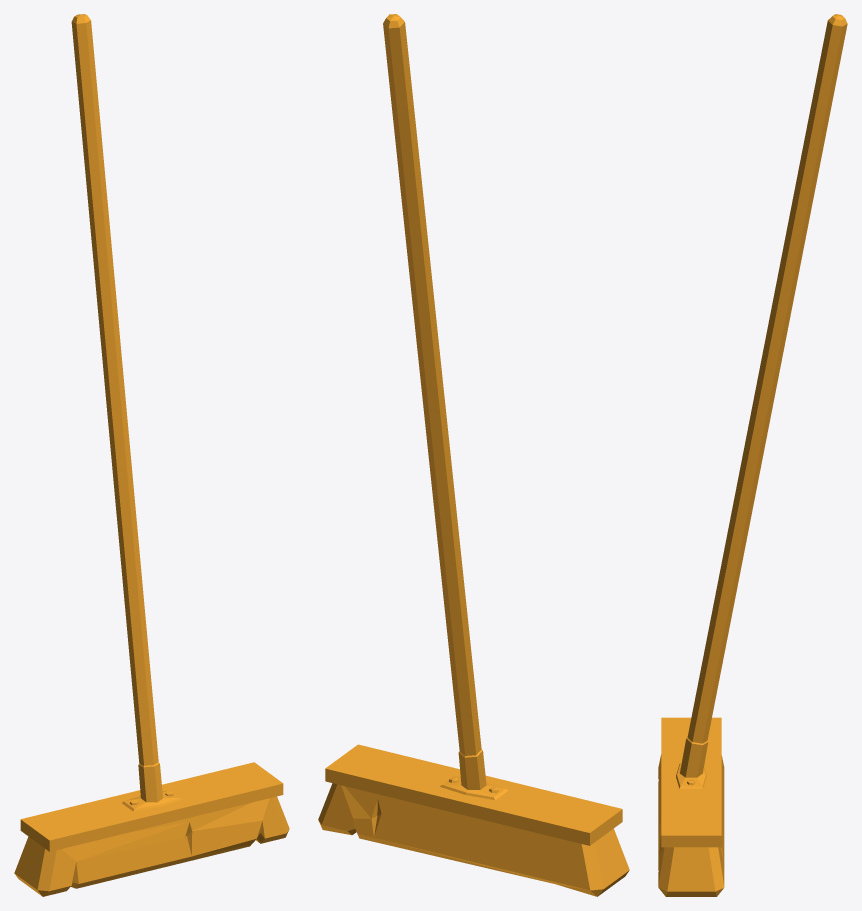
File: SM_Broom_Farm.fbx
3 renders of one model, left to right at view 1: azimuth 30°, elevation 25°; view 2: azimuth 150°, elevation 25°; view 3: azimuth 270°, elevation 25°, orthographic. The views are drawn at different scales.
Visible parts, largest first — view 1: broom-farm; view 2: broom-farm; view 3: broom-farm.
Part boxes in pixels (left/top/right/bottom): broom-farm: left=14, top=14, right=289, bottom=896; broom-farm: left=318, top=14, right=629, bottom=896; broom-farm: left=658, top=14, right=847, bottom=896.
Bounding box in the file's own units: 0.5 × 1.5 × 0.3141.
